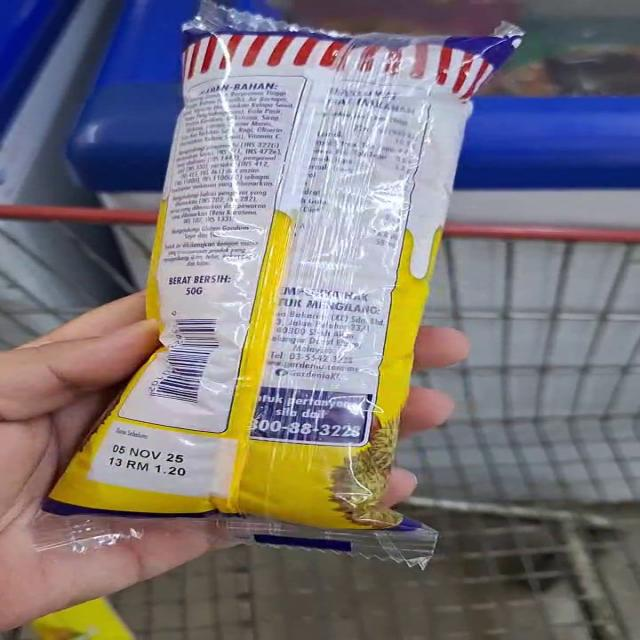Roti: (144, 15, 562, 303), (74, 274, 464, 566), (23, 591, 141, 640)
